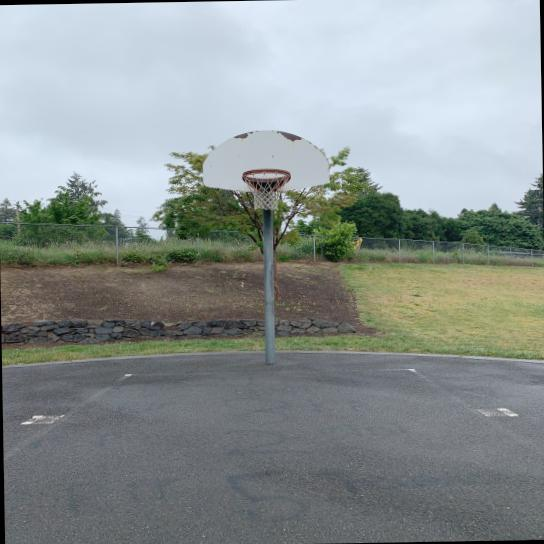basketball-hoop: (240, 167, 292, 211)
